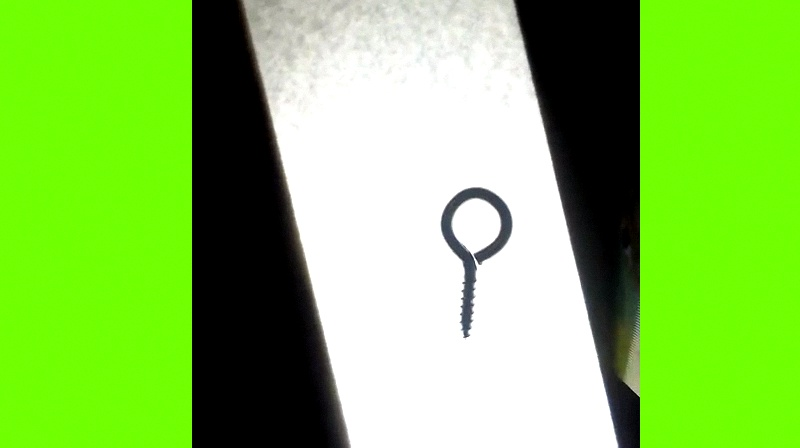O001: (438, 181, 514, 343)
